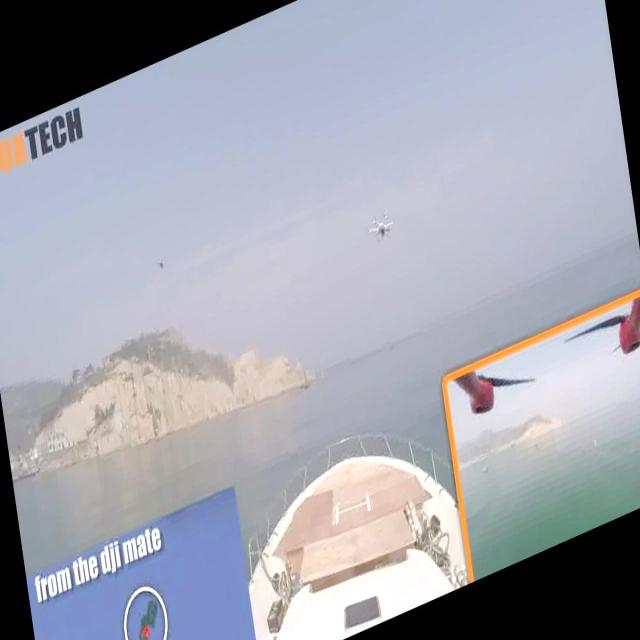drone: (363, 189, 402, 258)
